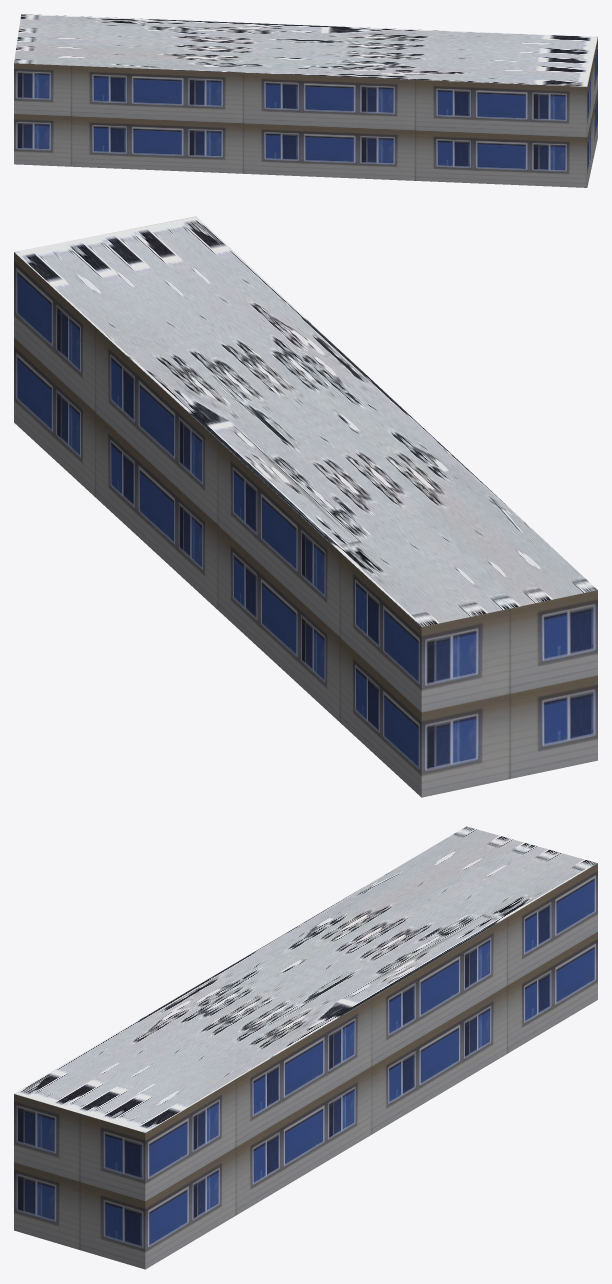
Rendered from ResTex__5293.fbx.
The picture shows the model from 3 angles, top to bottom: view 1: azimuth 30°, elevation 25°; view 2: azimuth 150°, elevation 25°; view 3: azimuth 270°, elevation 25°; orthographic projection. The views are drawn at different scales.
Parts seen in each view (by area): view 1: CityEngineMaterial_23_m, CityEngineMaterial_8_m; view 2: CityEngineMaterial_23_m, CityEngineMaterial_8_m; view 3: CityEngineMaterial_23_m, CityEngineMaterial_8_m.
Boxes of the visible parts, x1=… form: CityEngineMaterial_23_m: x1=14, y1=38, x2=597, y2=187; CityEngineMaterial_8_m: x1=14, y1=14, x2=597, y2=86; CityEngineMaterial_23_m: x1=14, y1=252, x2=597, y2=797; CityEngineMaterial_8_m: x1=14, y1=216, x2=597, y2=626; CityEngineMaterial_23_m: x1=14, y1=863, x2=597, y2=1269; CityEngineMaterial_8_m: x1=14, y1=826, x2=597, y2=1132.
Bounding box in the file's own units: 28.89 × 6 × 23.25.
Materials: 2 (2 with a texture image).
